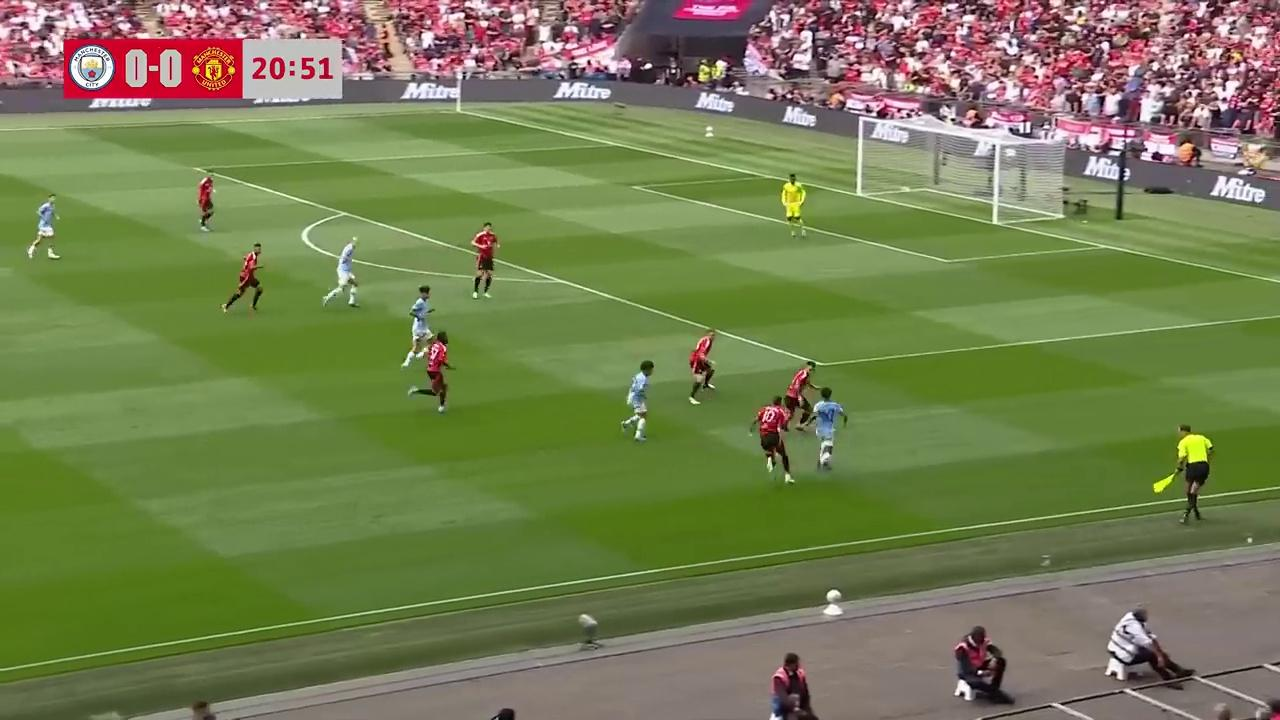player: (748, 397, 795, 484), (811, 385, 847, 473), (221, 243, 264, 316), (781, 361, 822, 430), (420, 331, 454, 414), (401, 286, 434, 368), (621, 360, 654, 441), (321, 238, 359, 308), (26, 194, 61, 260), (470, 222, 499, 299), (687, 330, 715, 405), (781, 173, 806, 239), (196, 172, 216, 233)
referee: (1175, 424, 1213, 524)
